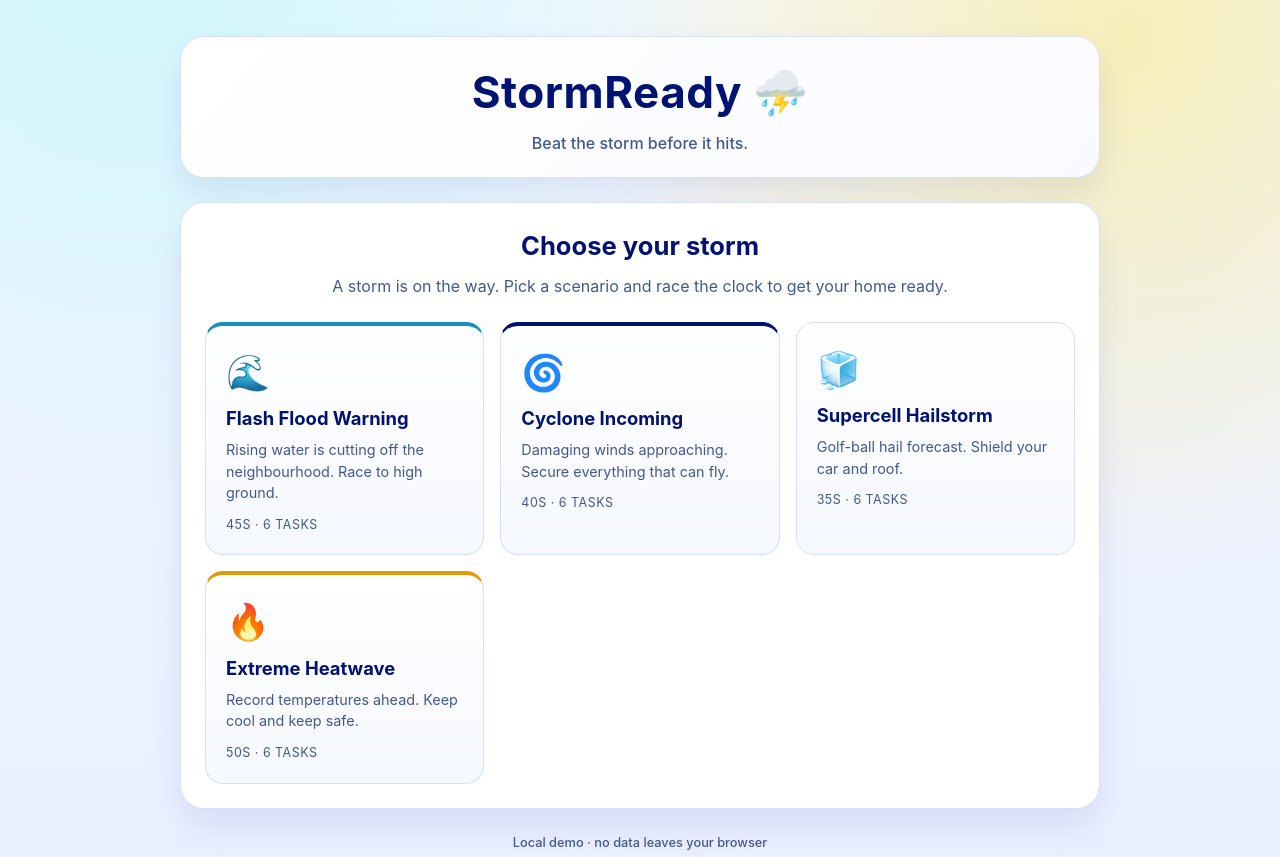
Test: App › starts a challenge when a scenario is chosen
Click the button "Flash Flood Warning": point(345, 439) x1=205 y1=322 x2=484 y2=556
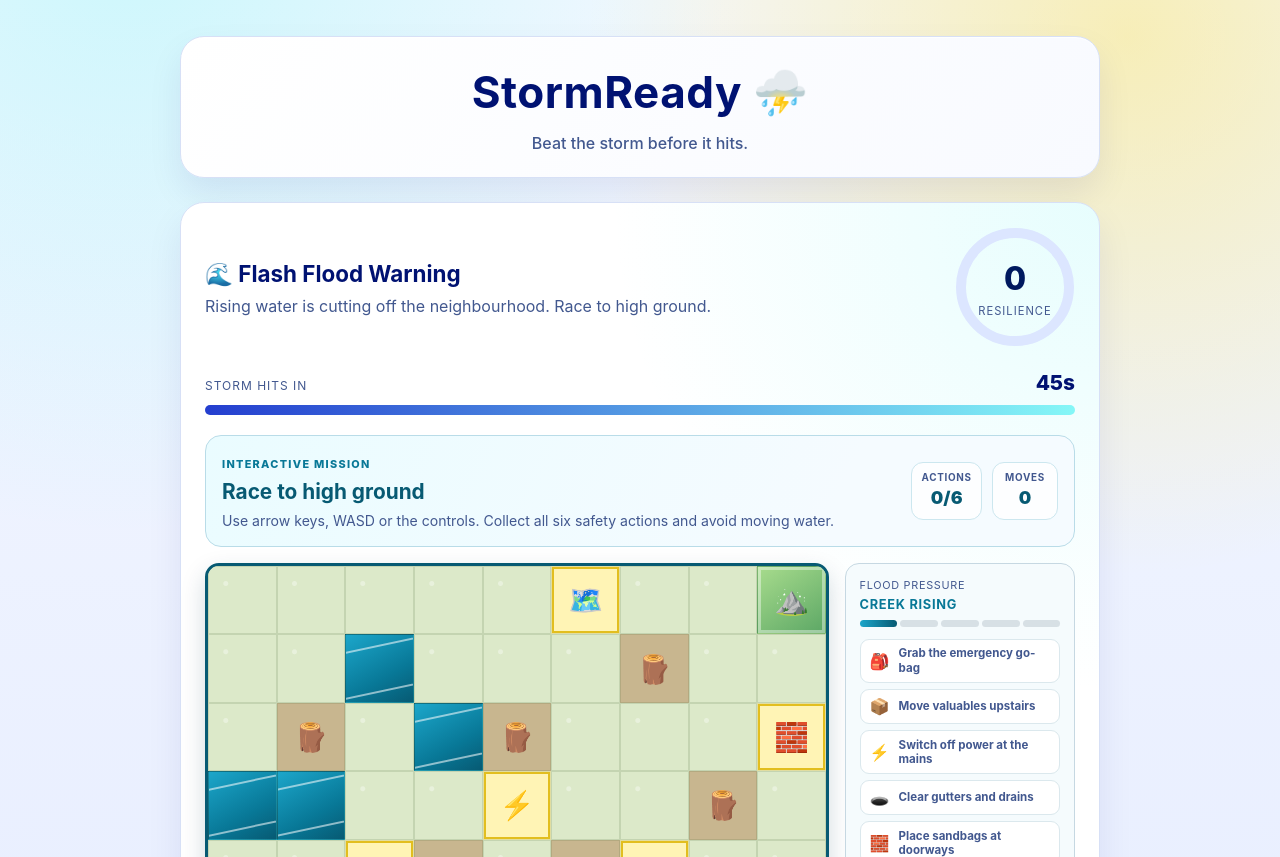
Expected: the heading "🌊 Flash Flood Warning" is shown, x1=205 y1=260 x2=461 y2=287
Expected: the heading "Race to high ground" is shown, x1=222 y1=479 x2=425 y2=504
Expected: the text "Use arrow keys, WASD or the controls" is shown, x1=222 y1=512 x2=834 y2=529
